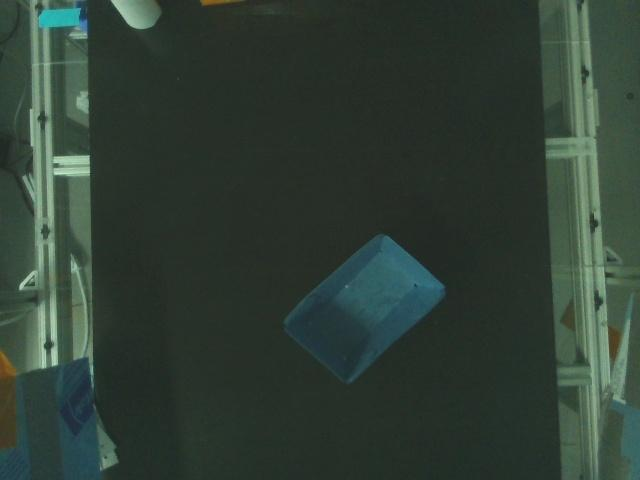cardboard: (282, 232, 448, 385), (109, 0, 163, 30), (196, 0, 250, 8)
